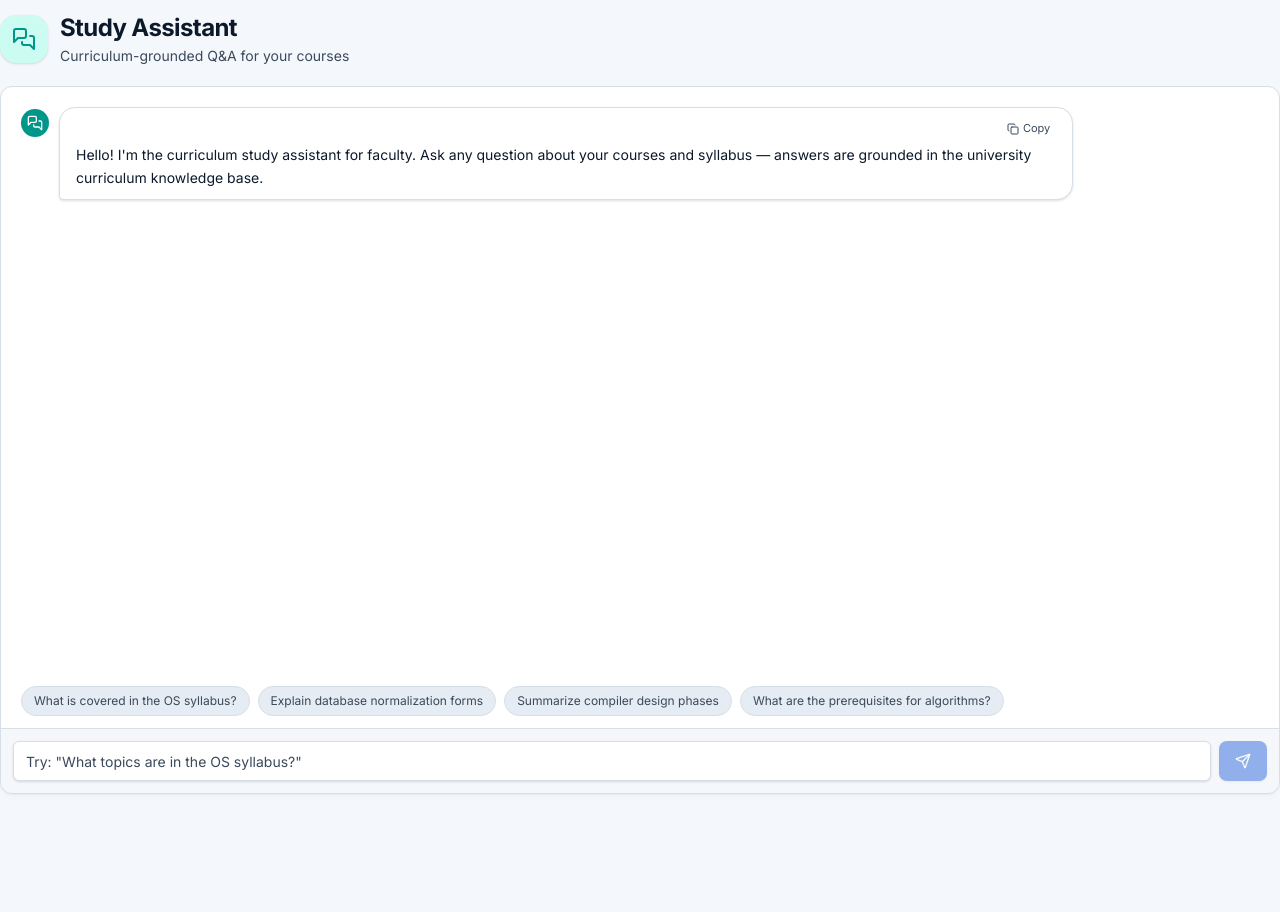
Test: FacultyStudyAssist › shows error state on failure
Click the button "What is covered in the OS syllabus?": (135, 701) x1=21 y1=686 x2=250 y2=716
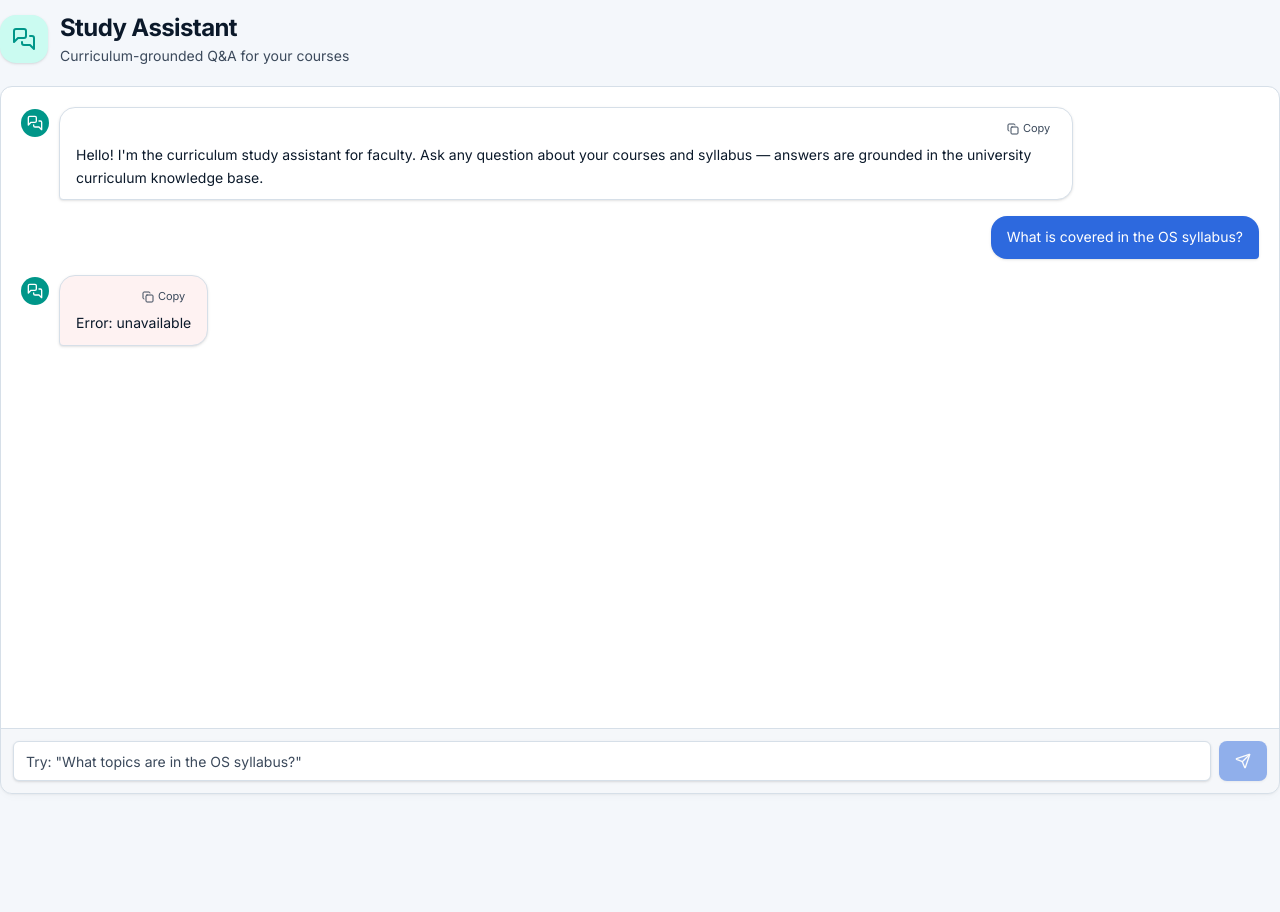
Result: the text "Error: unavailable" is shown at x1=76 y1=312 x2=191 y2=335
